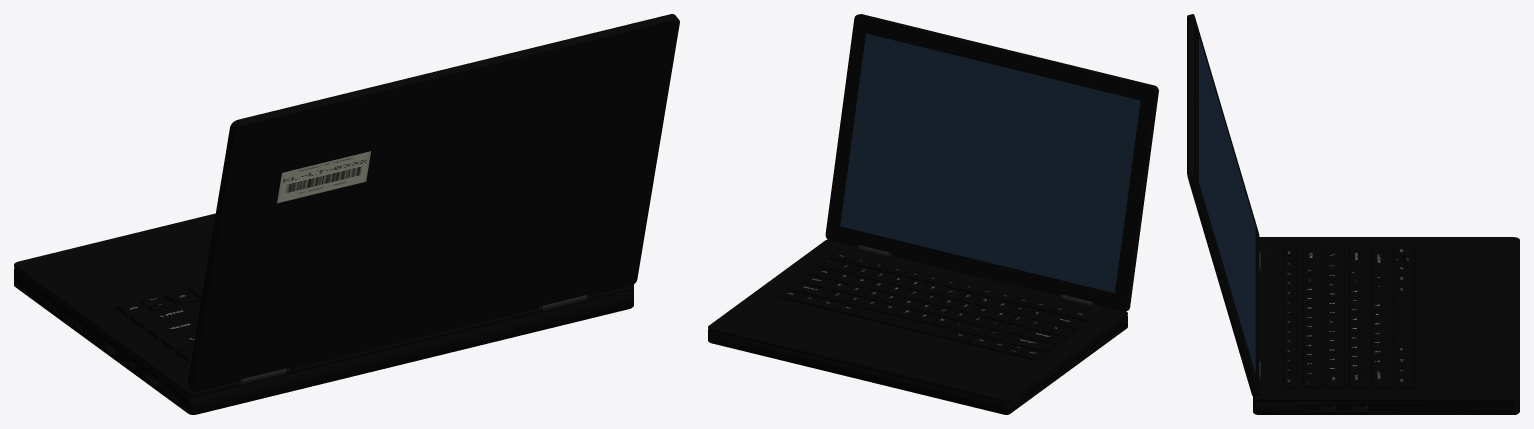
The model's file is laptop_open.glb.
3 views of the same model, side by side, from view 1: azimuth 30°, elevation 25°; view 2: azimuth 150°, elevation 25°; view 3: azimuth 270°, elevation 25° (orthographic). The views are drawn at different scales.
Visible parts, largest first — view 1: lid, base; view 2: screen, base, lid; view 3: base, screen, lid.
Boxes of the visible parts, <box> form: lid: <box>187,14,679,392</box>; base: <box>14,213,633,414</box>; screen: <box>840,33,1140,293</box>; base: <box>708,239,1127,414</box>; lid: <box>825,14,1158,311</box>; base: <box>1253,237,1519,414</box>; screen: <box>1199,36,1255,373</box>; lid: <box>1187,14,1259,396</box>.
Bounding box in the file's own units: 0.33 × 0.2316 × 0.2867.
Materials: 4 (3 with a texture image).
